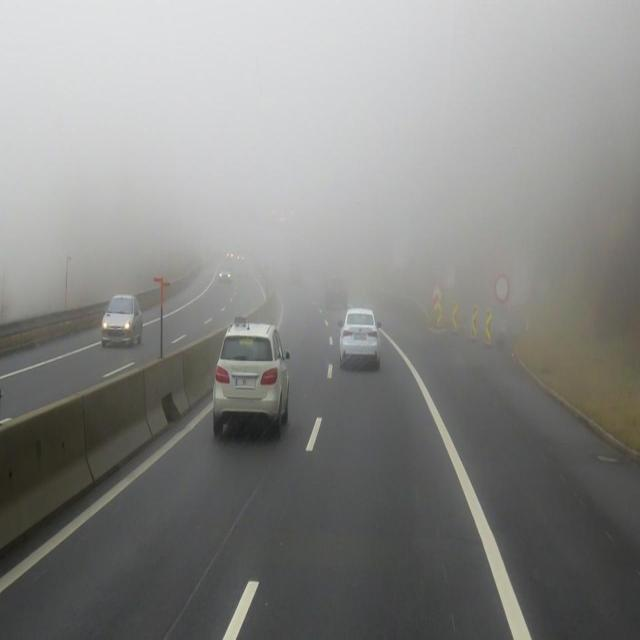Car: (204, 307, 300, 439), (332, 287, 386, 383), (99, 259, 140, 385), (208, 252, 242, 296)
